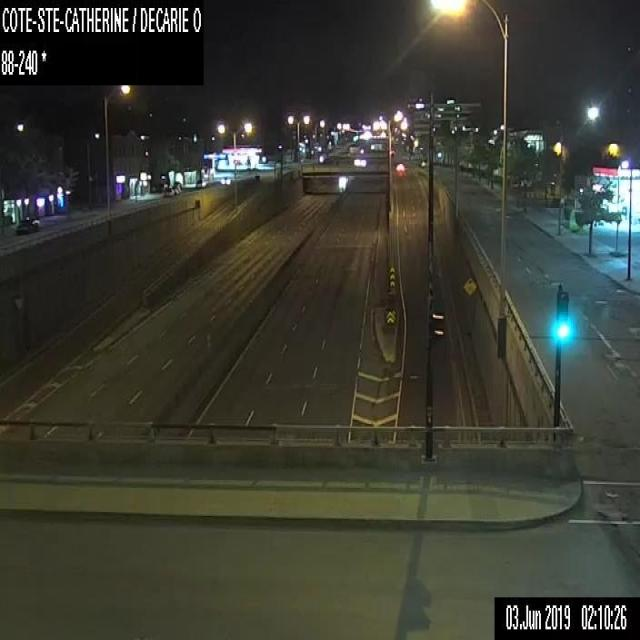vehicle: (15, 216, 39, 233), (163, 187, 173, 196), (174, 186, 180, 193)
